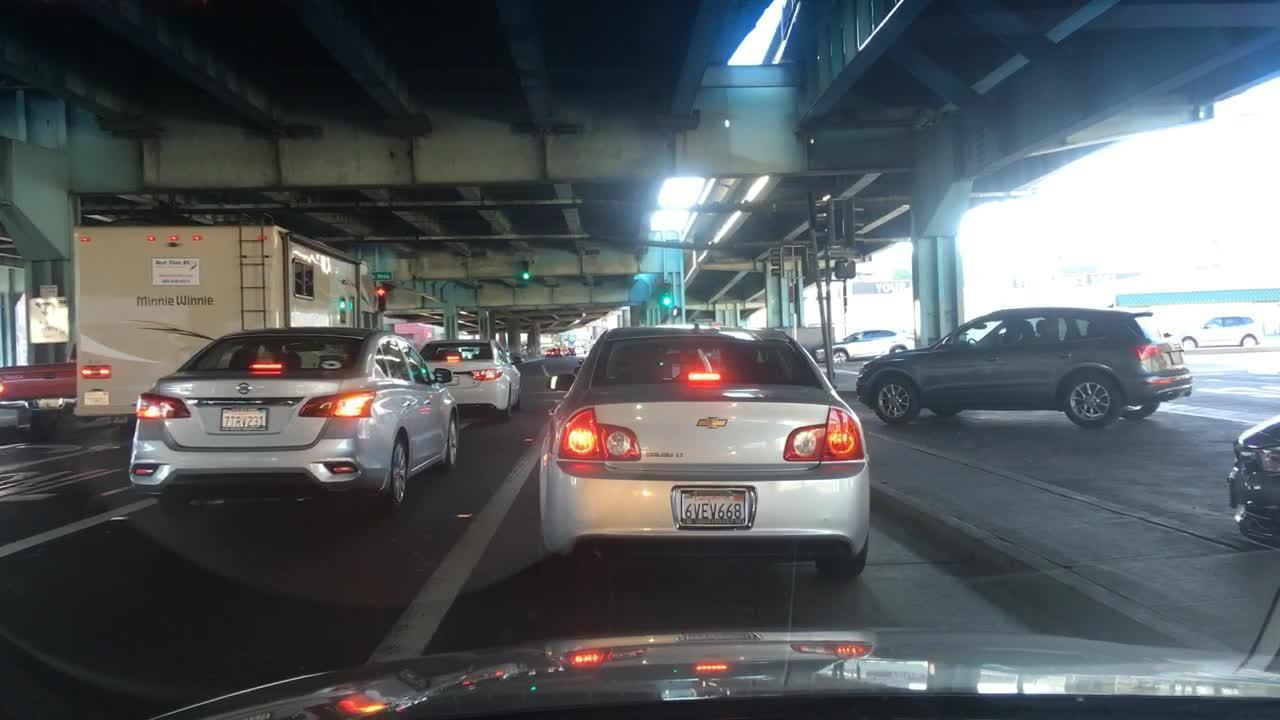Nissan: (232, 381, 253, 395)
chevrolet: (686, 405, 737, 435)
